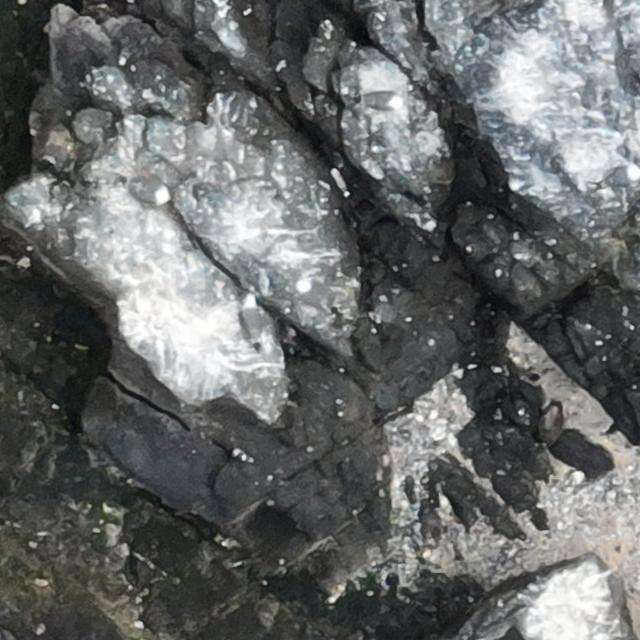umineko: (240, 289, 263, 345), (125, 181, 170, 205), (362, 92, 399, 109), (604, 168, 639, 185)
